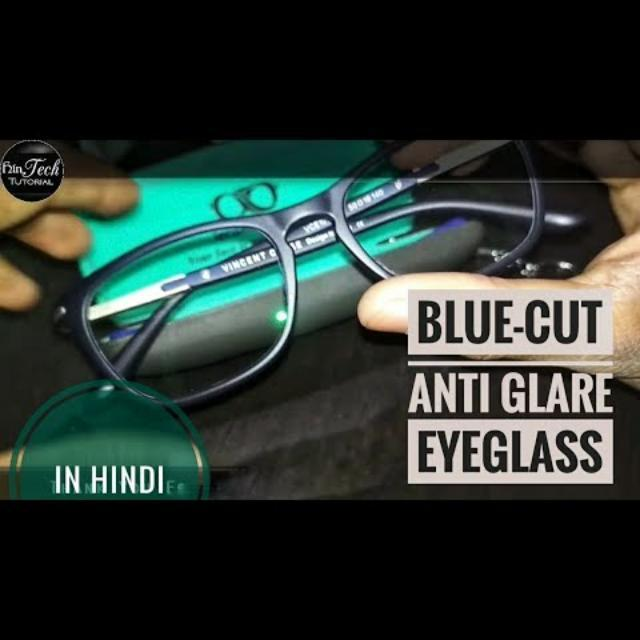glasses: (59, 140, 542, 406)
